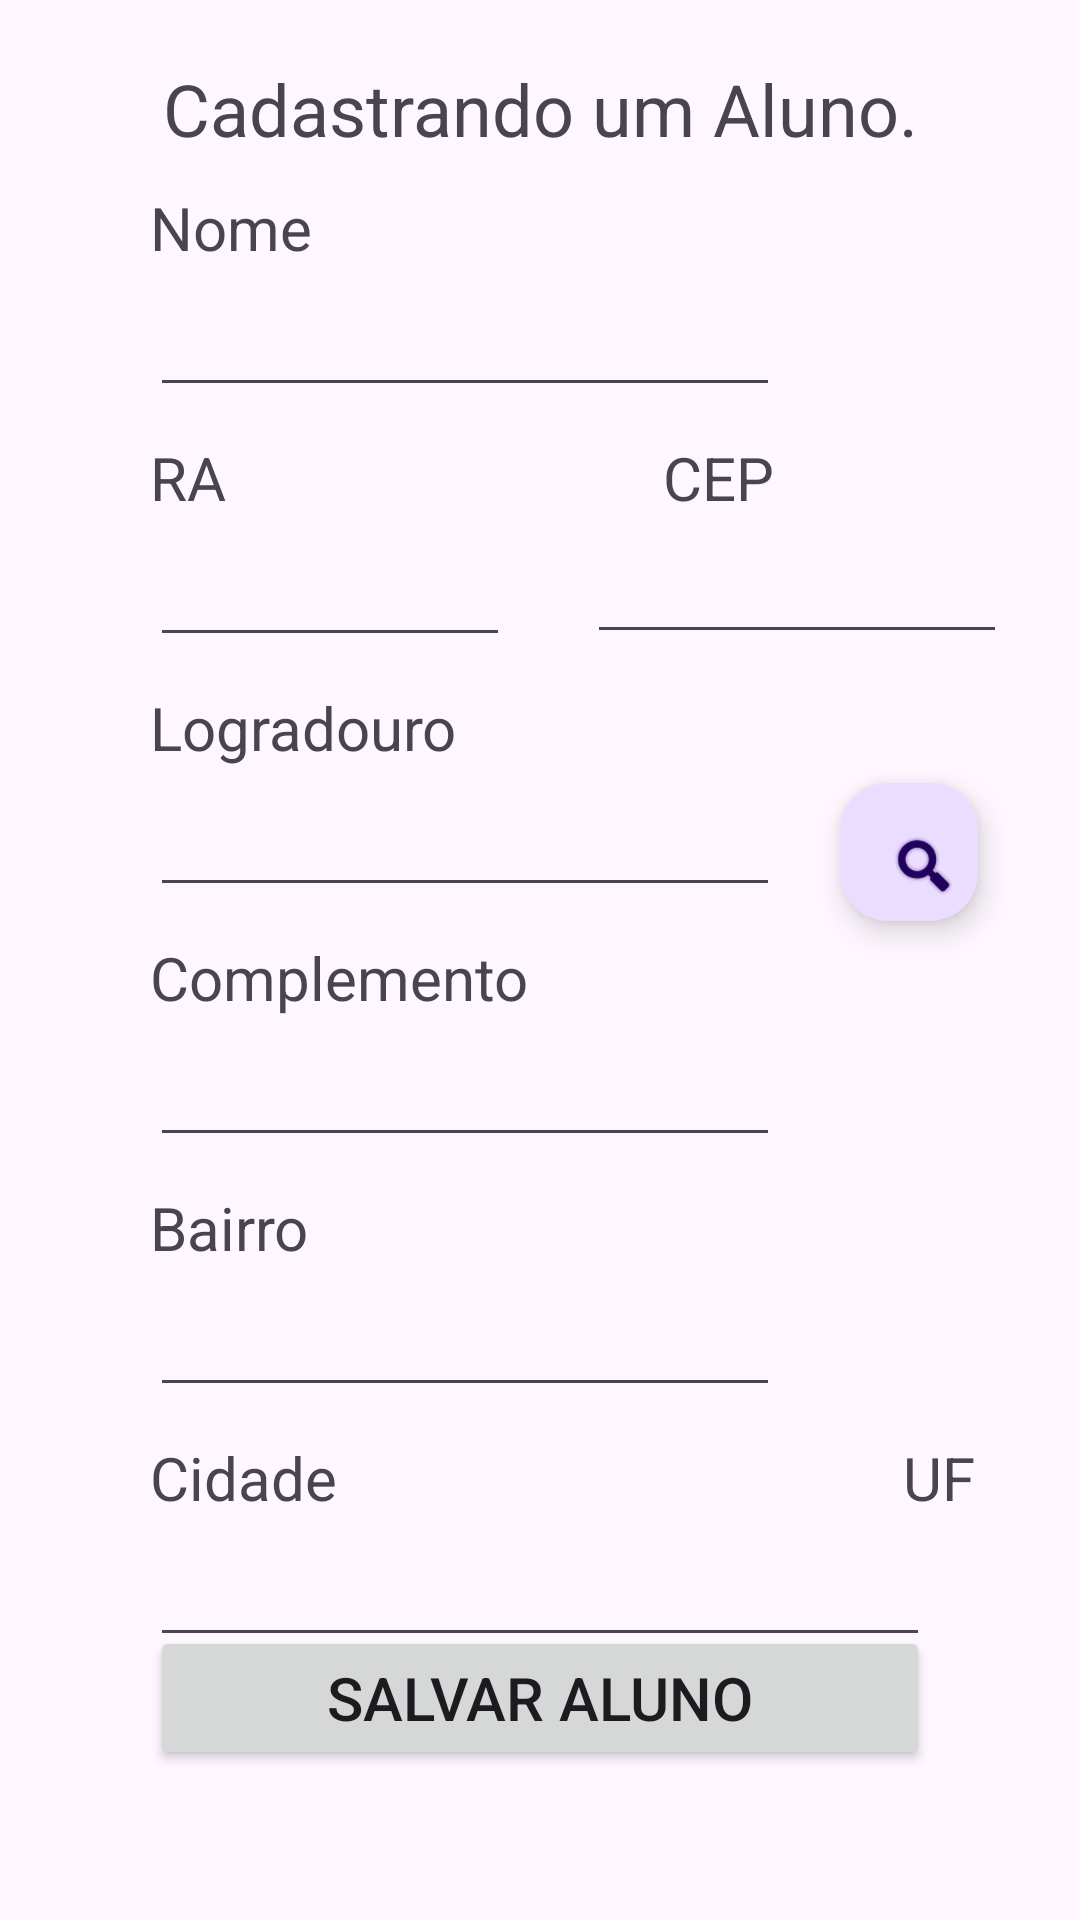

Icon click points for this 1080×1920 phone screenshot, format (x=x, y=y):
search category: (x=909, y=852)
